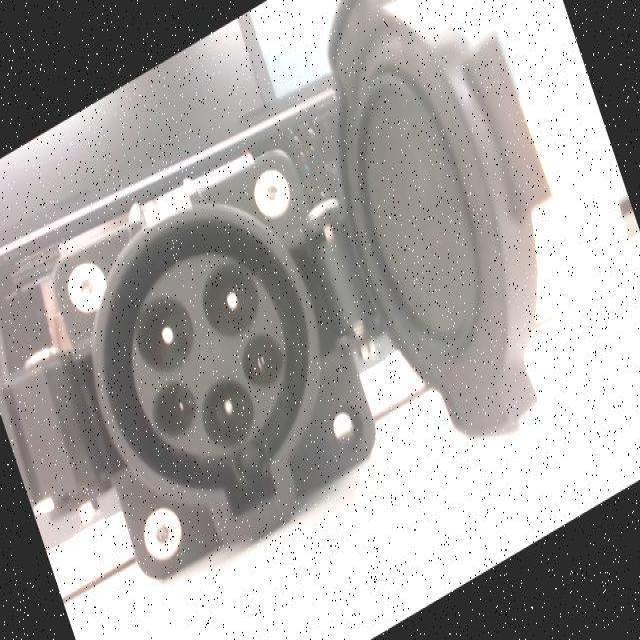Type 1: (99, 236, 300, 503)
